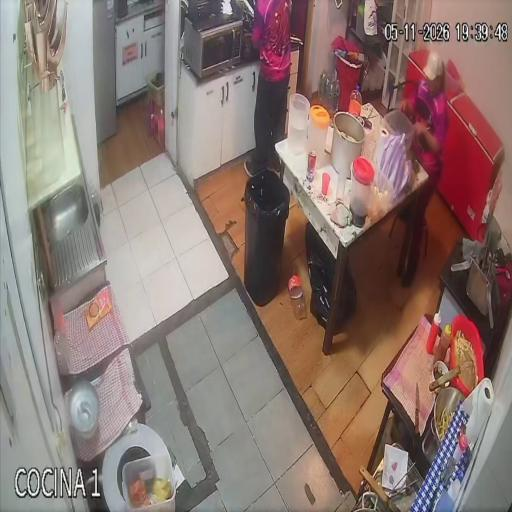Basurero: (245, 171, 290, 307)
Cuchillo1: (415, 380, 420, 433)
Envase Llajua: (435, 326, 451, 362)
Envase salsa: (426, 313, 441, 354)
Jarra1: (350, 157, 374, 228)
Jarra2: (308, 105, 330, 167)
Jarra3: (287, 93, 310, 154)
Microondas: (183, 18, 242, 76)
Persona1: (244, 0, 292, 176)
Persona2: (401, 52, 449, 287)
Tapa de olla: (68, 381, 99, 439)
Taper: (122, 452, 176, 512)
Taper2: (381, 110, 414, 150)
Taper4: (368, 163, 395, 221)
Vaso1: (322, 173, 330, 195)
botella: (345, 89, 362, 117)
olla1: (330, 112, 365, 179)
